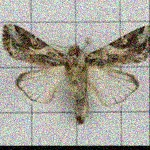Spodoptera litura: (1, 23, 149, 124)
